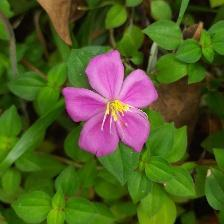malabar melastome: (61, 46, 164, 161)
